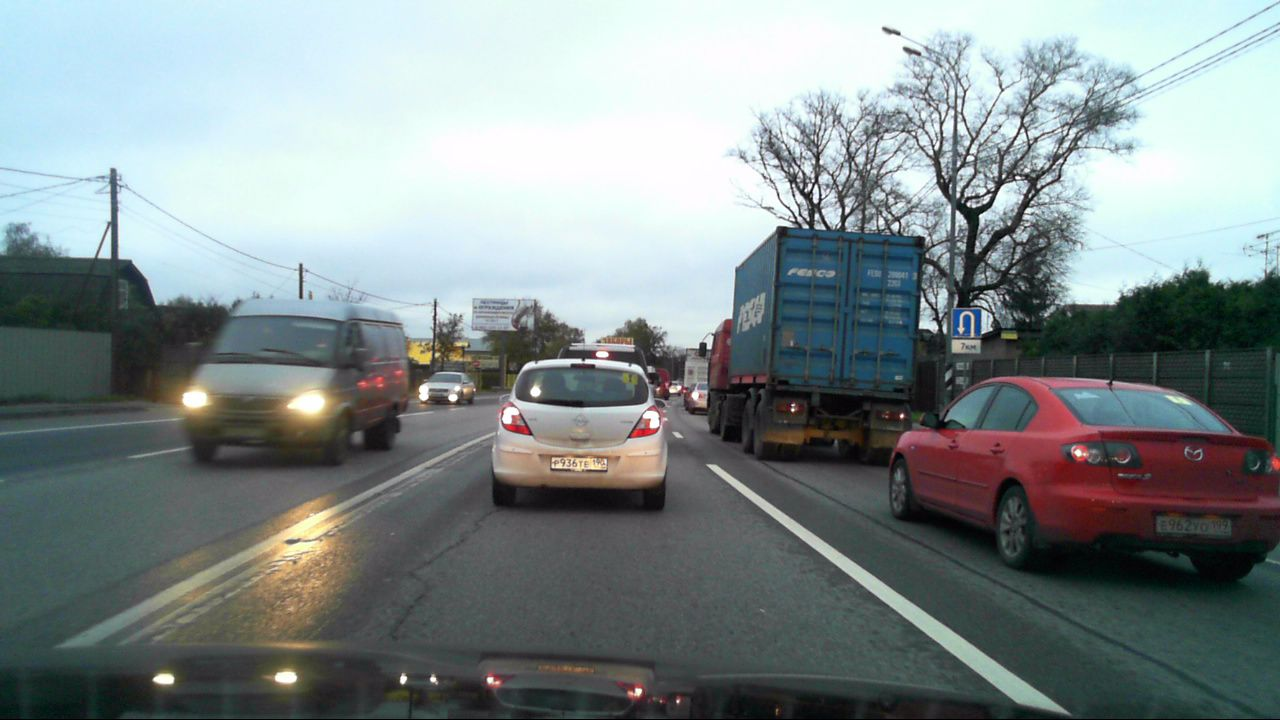U-turn: (952, 308, 981, 338)
